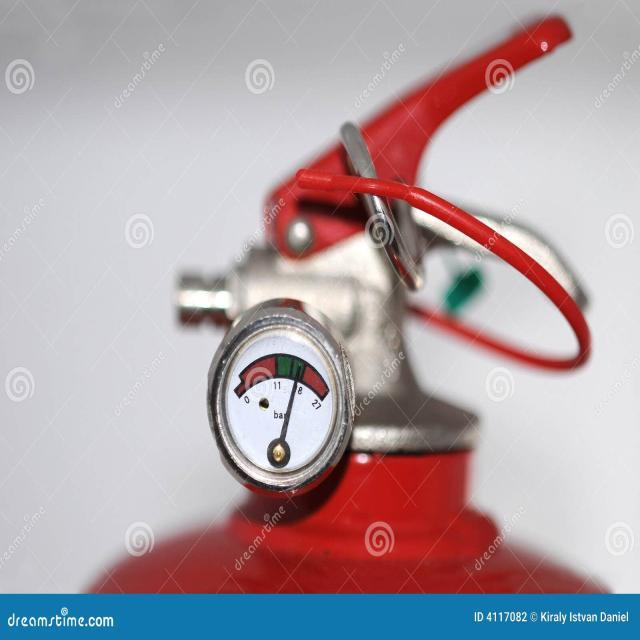pressure gauge: (208, 299, 353, 491)
